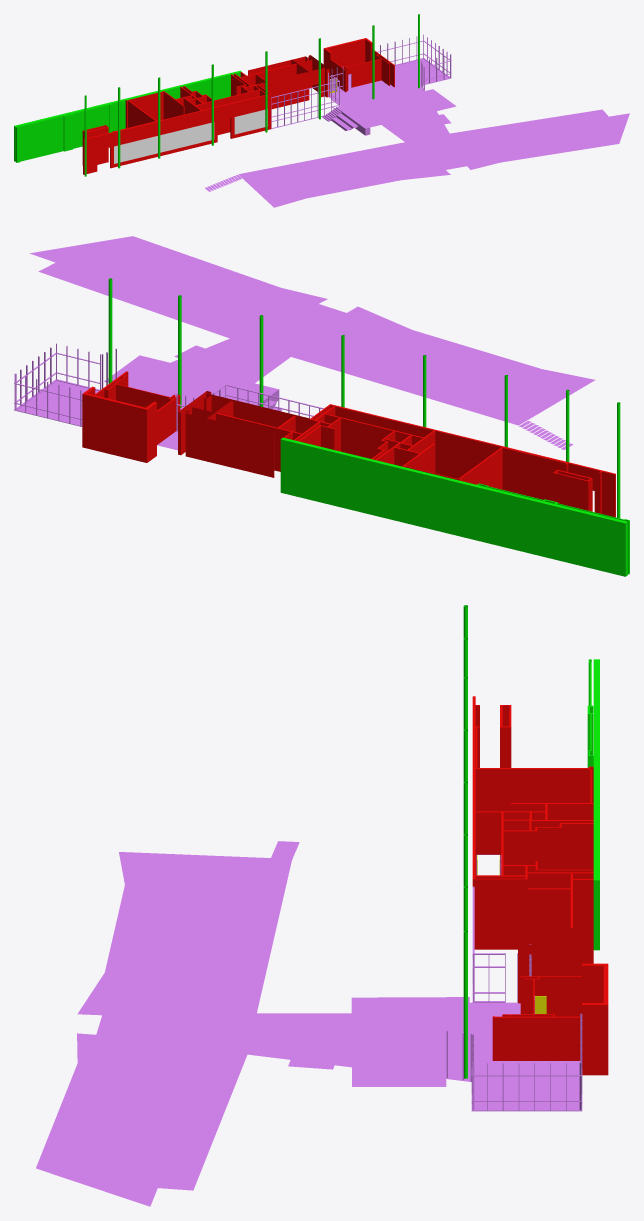
The picture shows the model from 3 angles, top to bottom: view 1: azimuth 30°, elevation 25°; view 2: azimuth 150°, elevation 25°; view 3: azimuth 270°, elevation 25°; orthographic projection. The views are drawn at different scales.
Visible parts, largest first — view 1: Test; view 2: Test; view 3: Test.
Part boxes in pixels (x1,y1,x2,y2): Test: (14, 14, 629, 207); Test: (14, 236, 629, 576); Test: (36, 605, 608, 1206).
Bounding box in the file's own units: 301 × 45.83 × 148.
